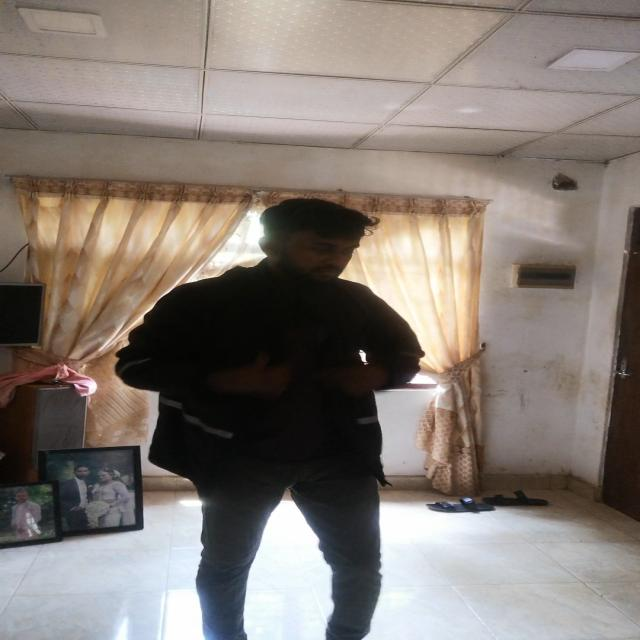Jacket_Wearer: (119, 257, 428, 484)
Person: (120, 184, 431, 640)
